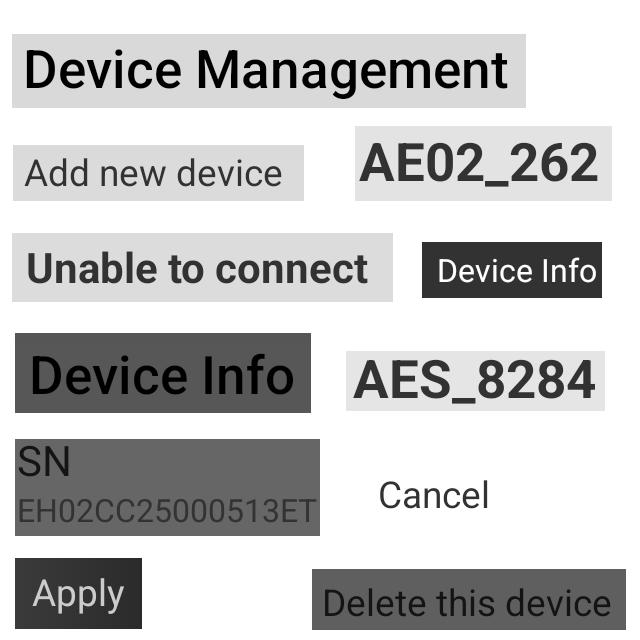0: (427, 139, 452, 181)
2: (570, 136, 599, 186), (454, 138, 484, 184), (507, 137, 537, 182), (508, 356, 535, 399)
4: (566, 356, 594, 402)
6: (542, 139, 568, 183)
8: (476, 358, 504, 401), (537, 358, 563, 402)
A: (349, 354, 389, 404), (18, 157, 46, 185), (32, 578, 55, 612)
C: (373, 476, 399, 510), (437, 256, 458, 288)
D: (23, 46, 53, 92), (32, 355, 62, 397), (319, 584, 347, 619)
E: (398, 141, 426, 182)
M: (196, 46, 239, 92)
S: (422, 358, 452, 401), (16, 443, 44, 478)
U: (24, 246, 52, 283)
